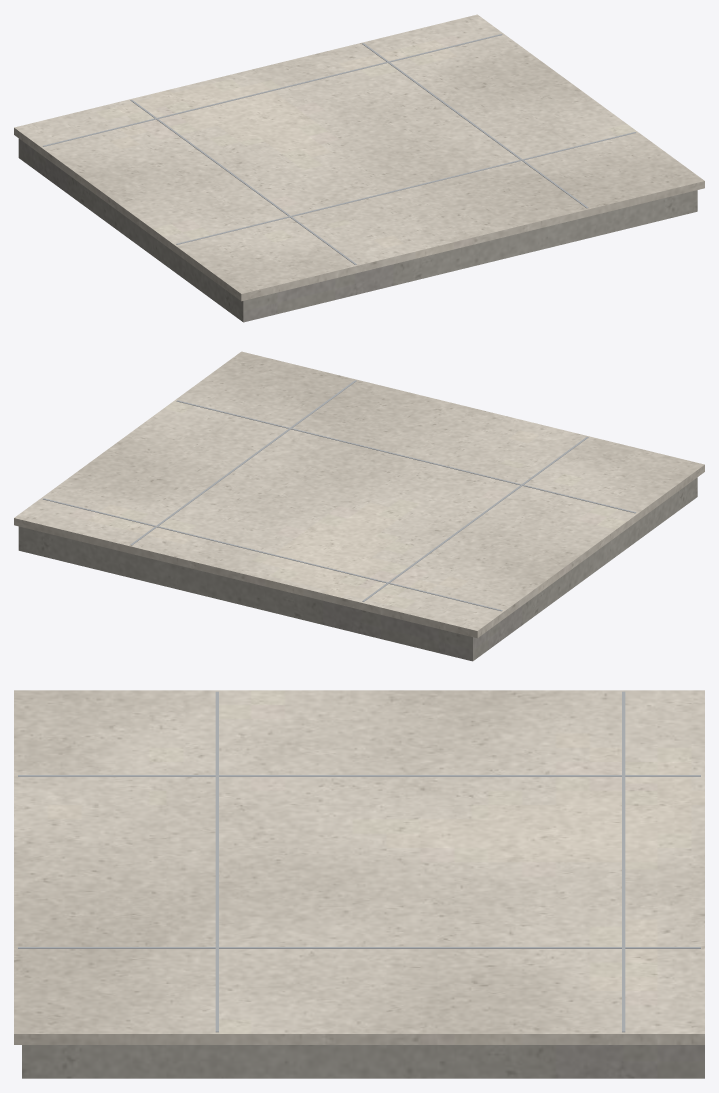
File: floor_terrazzo_g_e0_0_30_0.glb
The picture shows the model from 3 angles, top to bottom: view 1: azimuth 30°, elevation 25°; view 2: azimuth 150°, elevation 25°; view 3: azimuth 270°, elevation 25°; orthographic projection. The views are drawn at different scales.
Visible parts, largest first — view 1: floor_terrazzo_g_e0_0_30_0_terrazzo, floor_terrazzo_g_e0_0_30_0_concrete, floor_terrazzo_g_e0_0_30_0_steel; view 2: floor_terrazzo_g_e0_0_30_0_terrazzo, floor_terrazzo_g_e0_0_30_0_concrete, floor_terrazzo_g_e0_0_30_0_steel; view 3: floor_terrazzo_g_e0_0_30_0_terrazzo, floor_terrazzo_g_e0_0_30_0_concrete, floor_terrazzo_g_e0_0_30_0_steel.
Boxes of the visible parts, left/top/right/bottom form: floor_terrazzo_g_e0_0_30_0_terrazzo: left=14, top=14, right=704, bottom=301; floor_terrazzo_g_e0_0_30_0_concrete: left=18, top=138, right=697, bottom=322; floor_terrazzo_g_e0_0_30_0_steel: left=43, top=34, right=636, bottom=264; floor_terrazzo_g_e0_0_30_0_terrazzo: left=14, top=351, right=704, bottom=638; floor_terrazzo_g_e0_0_30_0_concrete: left=18, top=477, right=697, bottom=661; floor_terrazzo_g_e0_0_30_0_steel: left=43, top=380, right=635, bottom=611; floor_terrazzo_g_e0_0_30_0_terrazzo: left=14, top=690, right=704, bottom=1044; floor_terrazzo_g_e0_0_30_0_concrete: left=22, top=1045, right=704, bottom=1078; floor_terrazzo_g_e0_0_30_0_steel: left=18, top=691, right=700, bottom=1032.
Size of the model in its own units: 2 by 0.1315 by 1.7.
3 materials, 2 textured.
